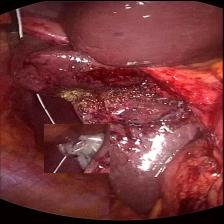Specimen Bag: (44, 123, 110, 172)
